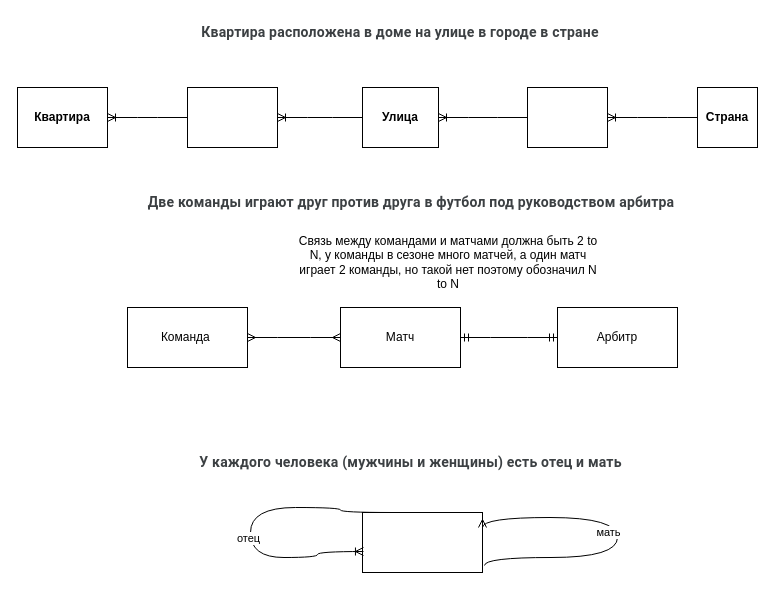
The diagram is 775 pixels wide and 590 high, and some of its shapes have lost their labels. Here are the shapes that lost their labels. From the top down, the box of each, then its label:
(186, 86, 278, 148): Дом
(526, 86, 608, 148): Город
(362, 512, 482, 572): Человек
